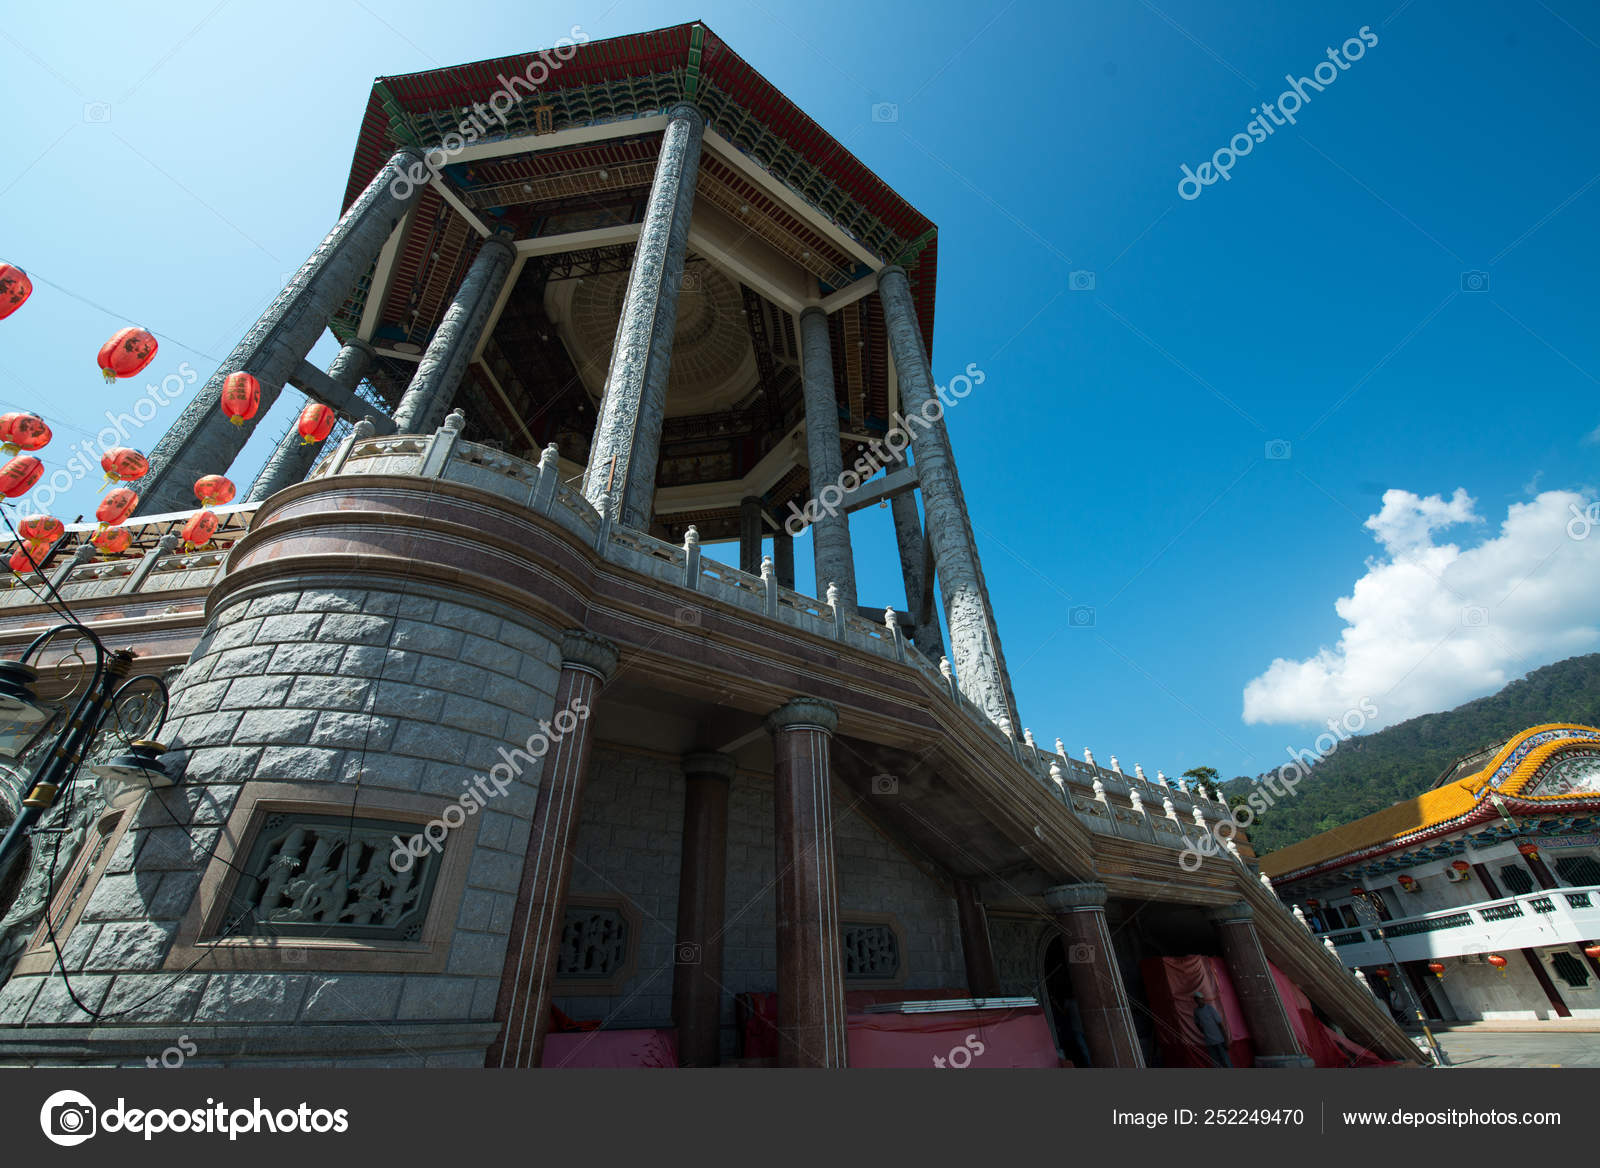Buddhist Temple: (270, 24, 985, 944)
